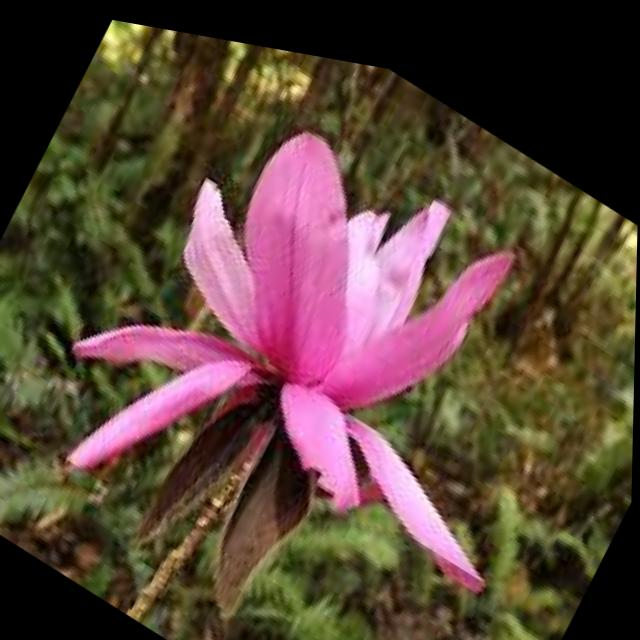Flower: (27, 21, 627, 640)
